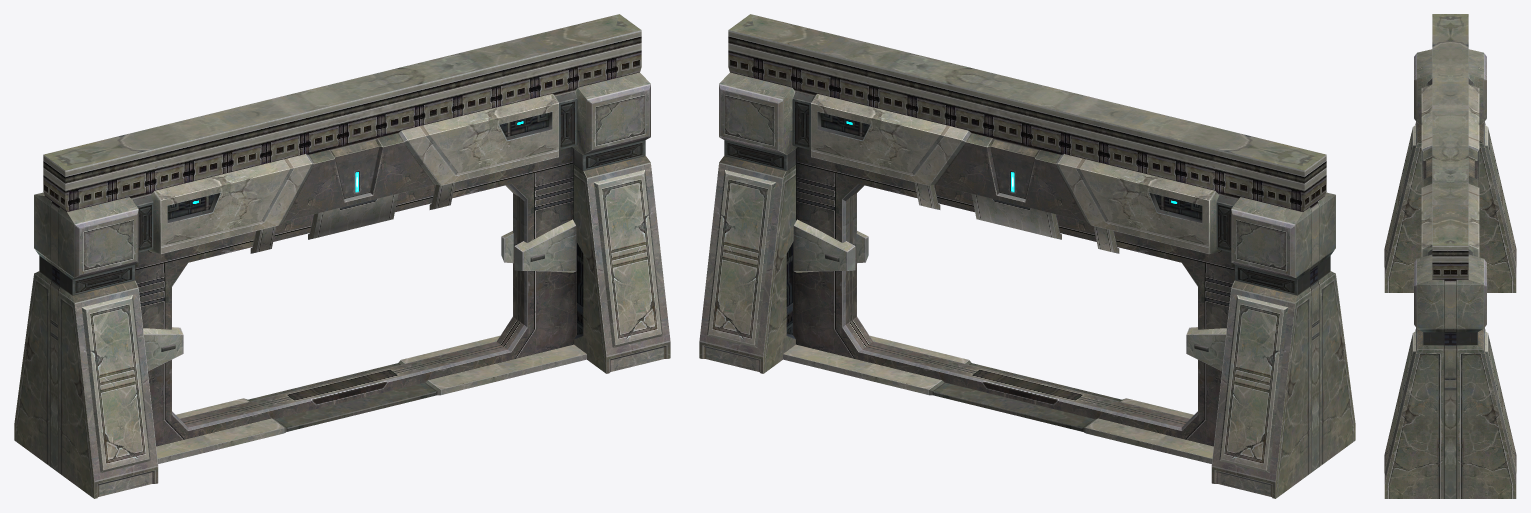
File: bel_arch_rakata_entrance01.glb
3 views of the same model, side by side, from view 1: azimuth 30°, elevation 25°; view 2: azimuth 150°, elevation 25°; view 3: azimuth 270°, elevation 25° (orthographic). The views are drawn at different scales.
Parts seen in each view (by area): view 1: bel_arch_rakata_entrance01; view 2: bel_arch_rakata_entrance01; view 3: bel_arch_rakata_entrance01.
Part boxes in pixels (x1=…): bel_arch_rakata_entrance01: x1=14, y1=14, x2=670, y2=498; bel_arch_rakata_entrance01: x1=699, y1=14, x2=1355, y2=498; bel_arch_rakata_entrance01: x1=1384, y1=14, x2=1516, y2=498.
Bounding box in the file's own units: 3.6 × 1.83 × 0.8669.
3 materials, 3 textured.
